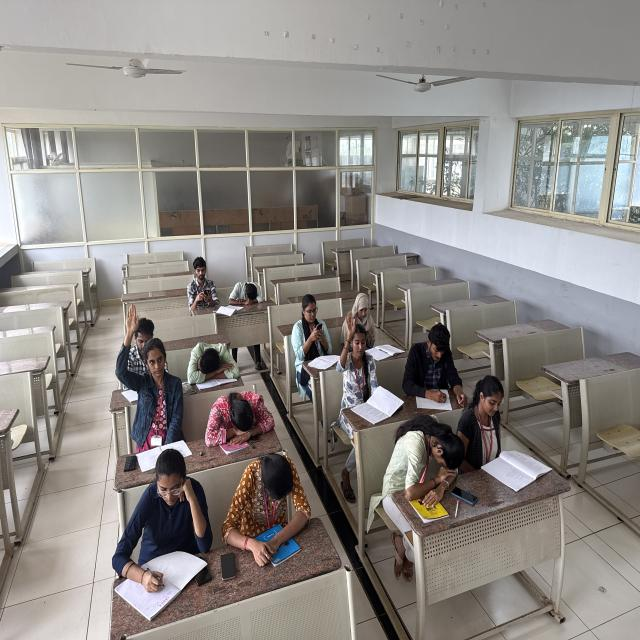Hand Rising: (112, 298, 188, 446), (332, 309, 392, 437)
Reading: (454, 364, 543, 489), (229, 444, 315, 572)
Sleeping: (378, 412, 468, 526), (197, 381, 280, 456), (171, 329, 246, 388), (224, 272, 274, 321)
Using Phone: (284, 291, 336, 371), (179, 253, 221, 314), (342, 289, 381, 346)
Writing: (98, 444, 220, 619), (399, 317, 470, 414)
